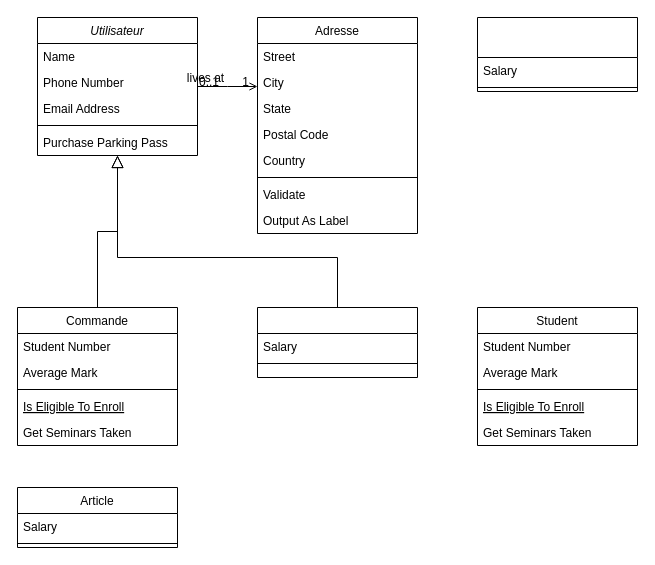
Some shapes in this 655 by 565 pixel diagram are drawn without their labels. Each missing label, with the box of its shape:
carte_paiement: (476, 16, 638, 92)
Professor: (256, 306, 418, 378)
